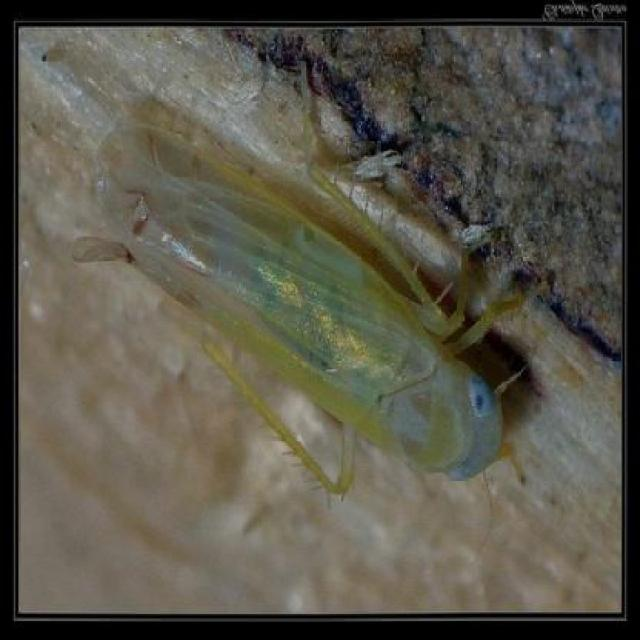green-leafhopper: (96, 155, 522, 494)
